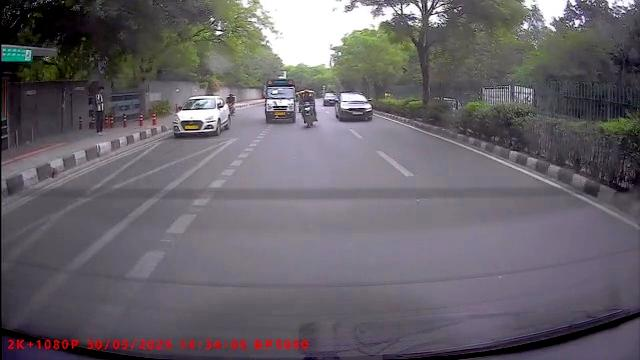motorcycle_with_helmet: (297, 87, 319, 129)
